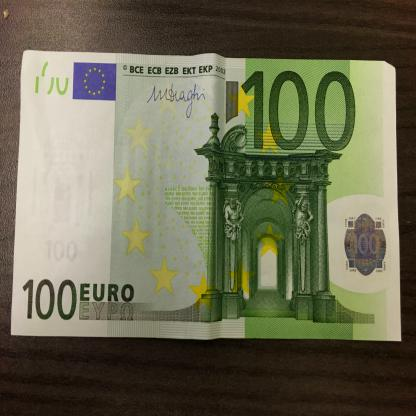euro_banknote: (14, 53, 405, 341)
